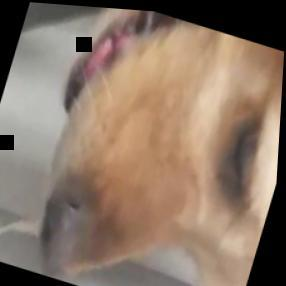nasal_discharge: (0, 179, 91, 281)
